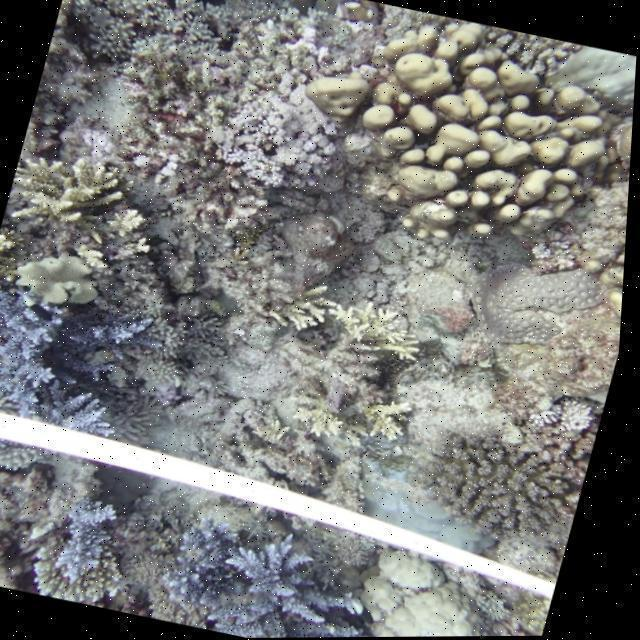Bleached Coral: (201, 59, 365, 209), (515, 374, 614, 474)
Healthy Coral: (182, 529, 362, 640), (0, 296, 122, 428), (435, 424, 583, 529)
